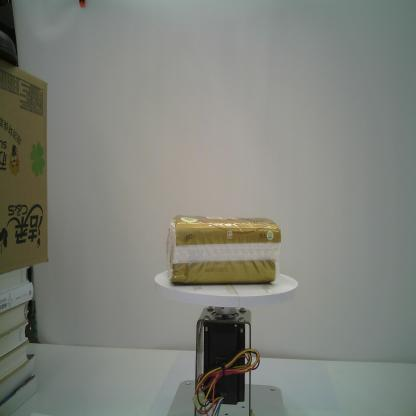Tissue: (166, 215, 282, 285)
